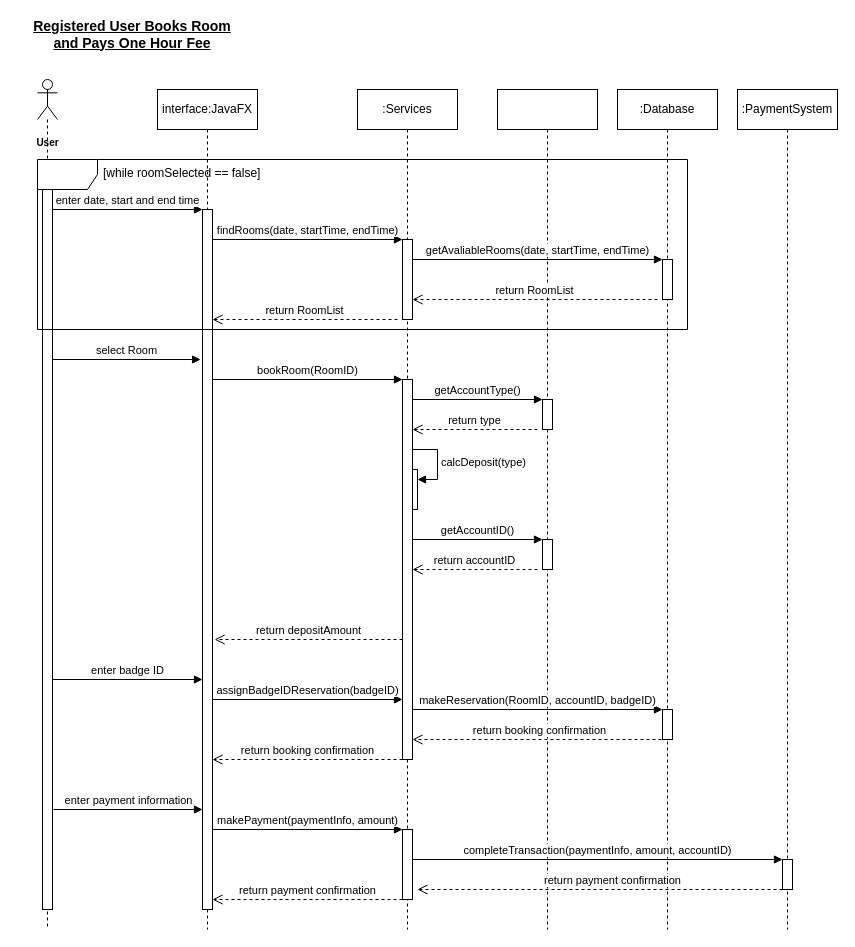
The diagram is 855 pixels wide and 947 high, and some of its shapes have lost their labels. The shapes that lost their labels are listed below. From the top down, each one's centre as x and y in pixels, then its label:
At point (362, 244): "Loop".
At point (547, 509): "account:Account".
